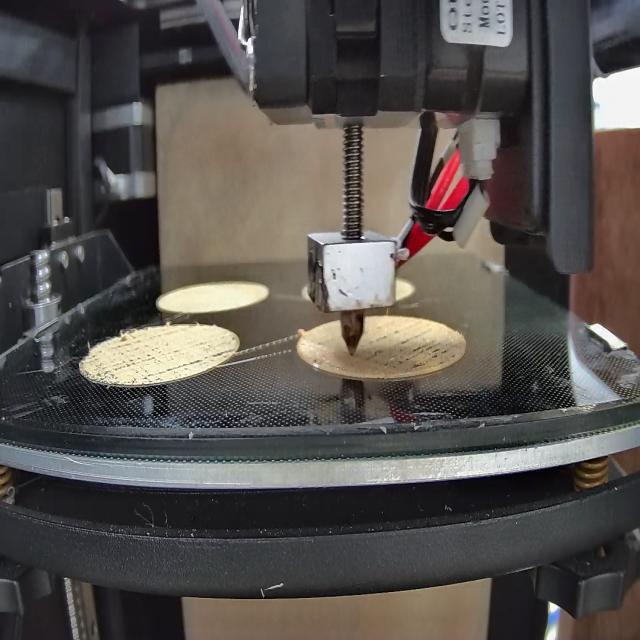under_extrusion: (87, 330, 208, 375), (369, 328, 462, 369), (208, 342, 235, 362)
